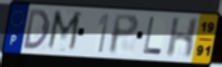1: (97, 12, 111, 55)
D: (22, 8, 51, 51)
H: (164, 17, 201, 59)
L: (141, 16, 163, 57)
M: (44, 9, 84, 55)
P: (107, 14, 141, 57)
